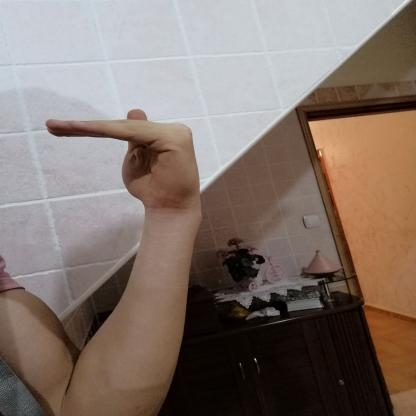KHAA: (33, 100, 217, 218)
